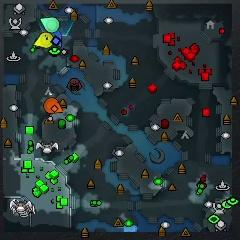p1: (51, 31, 62, 47)
p2: (40, 17, 60, 32)
p4: (34, 33, 54, 47)
p5: (45, 97, 63, 114)
